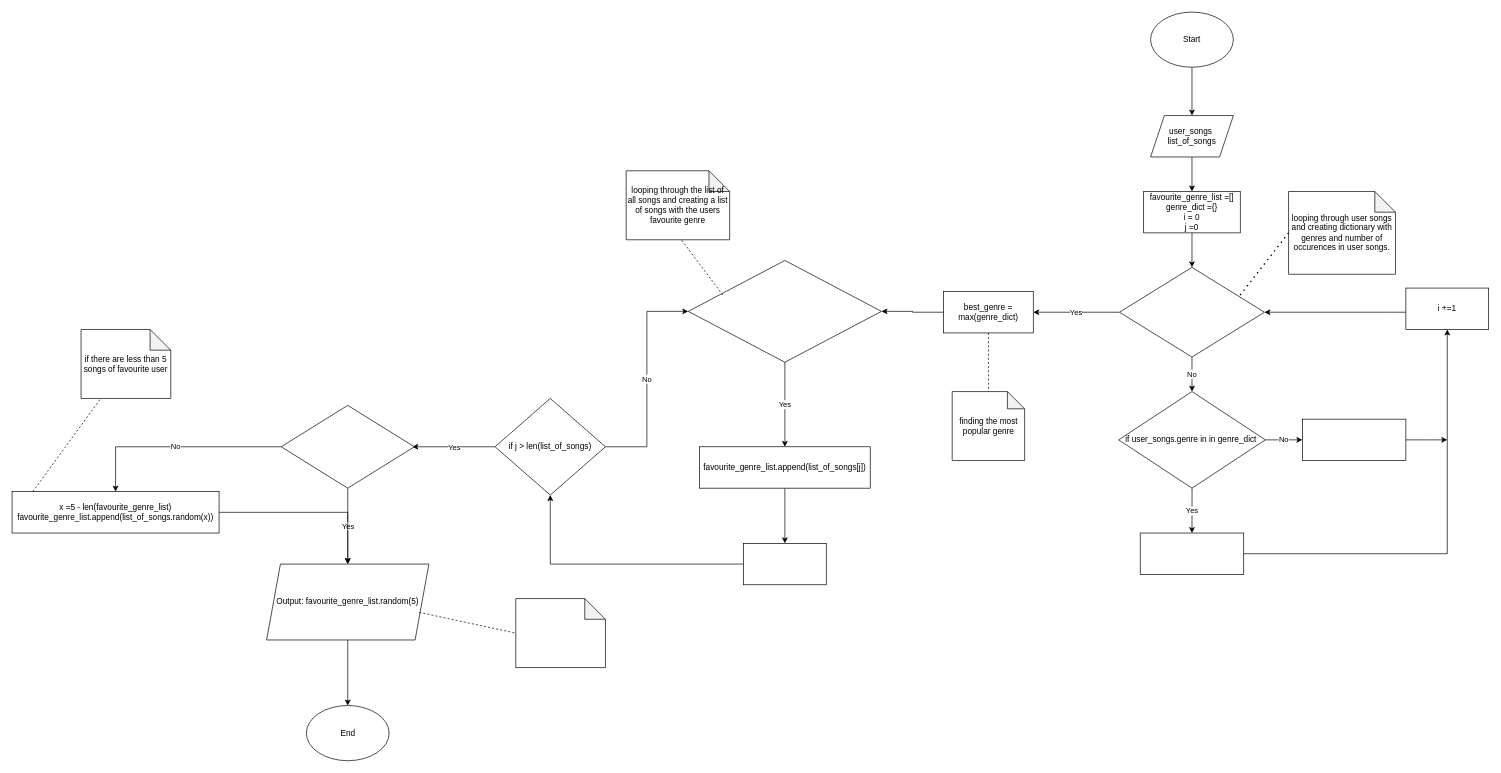
Some shapes in this 1501 by 773 pixel diagram are drawn without their labels. Here are the shapes that lost their labels. From the top down, the centre of each, then its label:
At pixel 784 311: "if list_of_songs[j].genre = best_genre".
At pixel 1191 312: "if i > len(user_songs)".
At pixel 347 446: "if len(favourite_genre_list) >= 5".
At pixel 1354 439: "genre_dict[genre] =1".
At pixel 784 564: "j += 1".
At pixel 1192 553: "genre_dict[genre] +=1".
At pixel 560 633: "Returning 5 random songs from the list".
